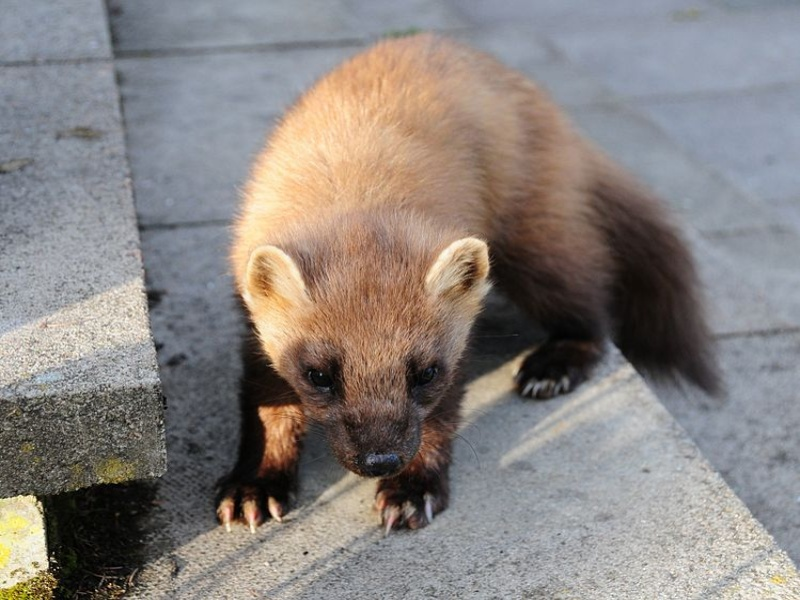minkish: (210, 23, 723, 544)
